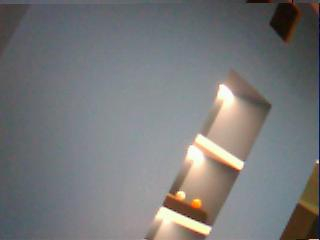oball: (191, 198, 202, 208)
